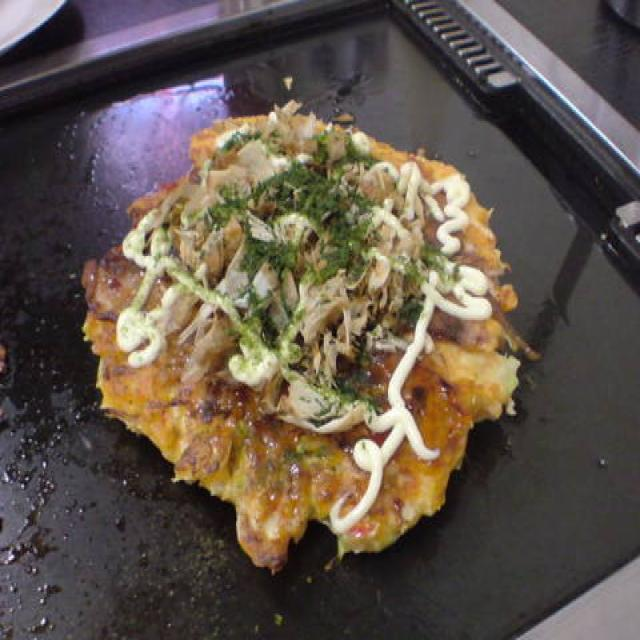蛋糕甜品: (73, 98, 512, 565)
